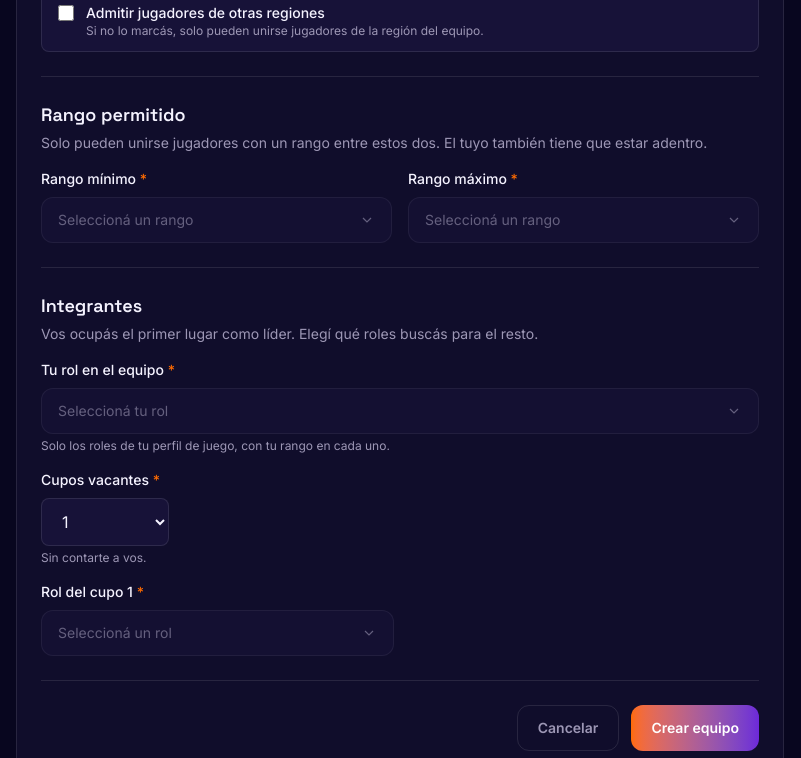
Test case: US 14 - Crear equipo › no deja crear el equipo con los campos obligatorios vacíos
(page scrolled)
What coordinates should you click on to do the following:
click the button "Crear equipo"
I would click on:
 (695, 728)
Its box is [631,705,759,751].
(page scrolled)
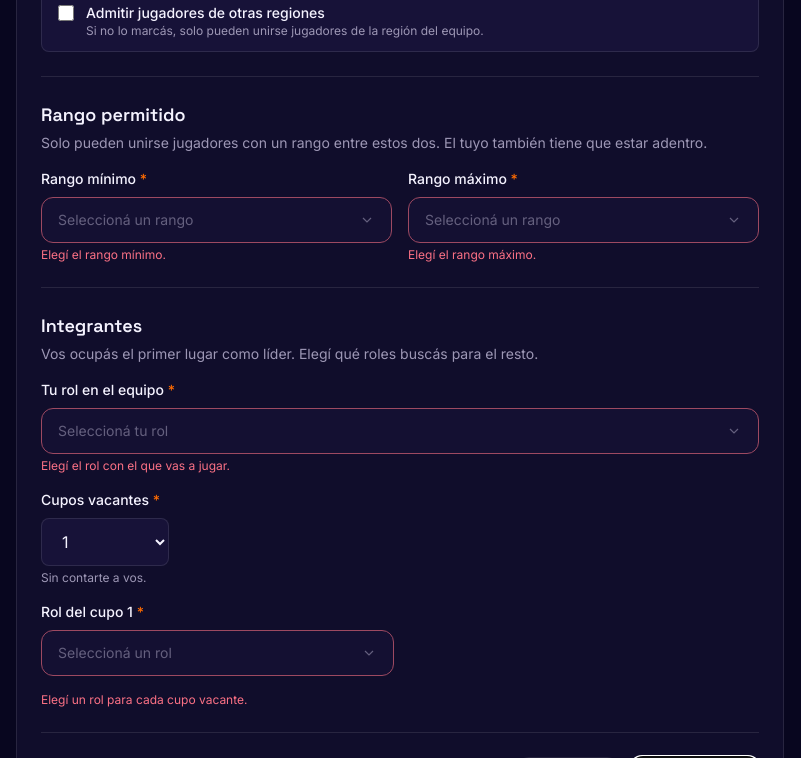
Check: the text "Elegí el rango mínimo." is shown, box [41,247,166,262]
Check: the text "Elegí el rango máximo." is shown, box [408,247,536,262]
